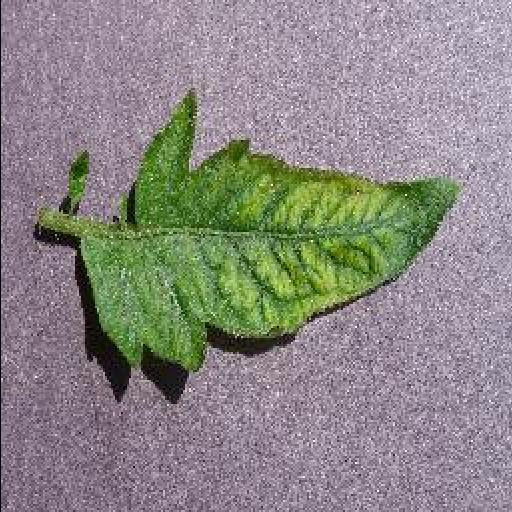Mosaic Virus: (78, 88, 462, 376)
